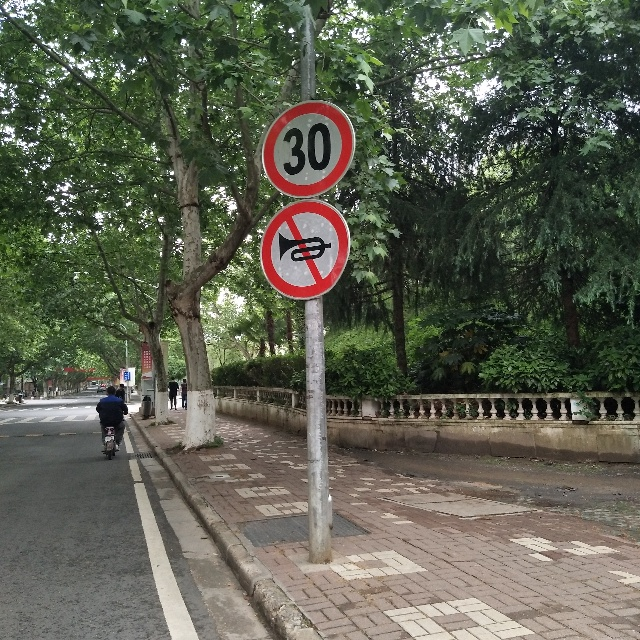nohonk: (269, 204, 342, 285)
